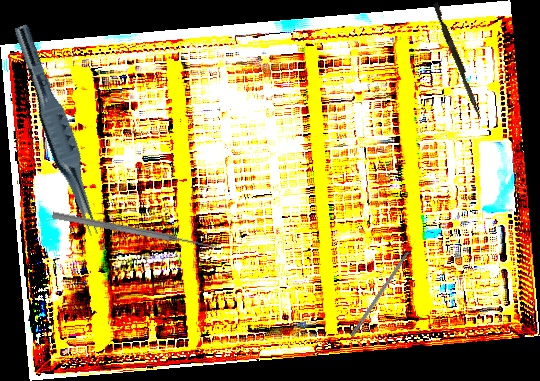Hook Surgical: (350, 239, 419, 338)
Pusher: (51, 210, 216, 252), (430, 2, 486, 120)
Tissue Forceps: (1, 22, 112, 240)
